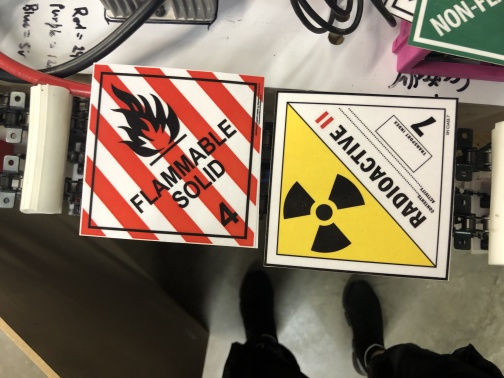FlammableSolid: (79, 63, 265, 249)
Radioactive: (263, 90, 458, 281)
